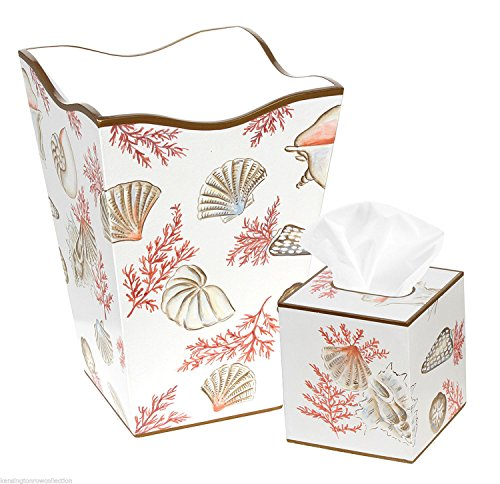Tissue: (294, 198, 445, 300)
